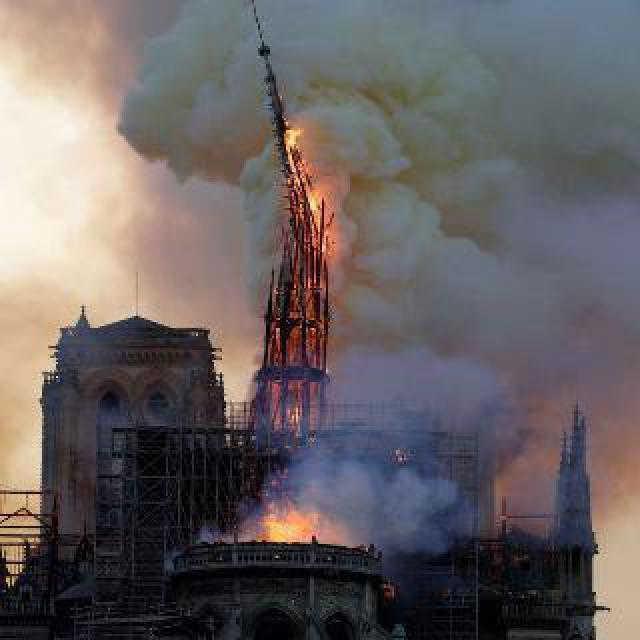Fire: (276, 122, 344, 434), (260, 502, 330, 554)
Smoke: (162, 486, 264, 570)
